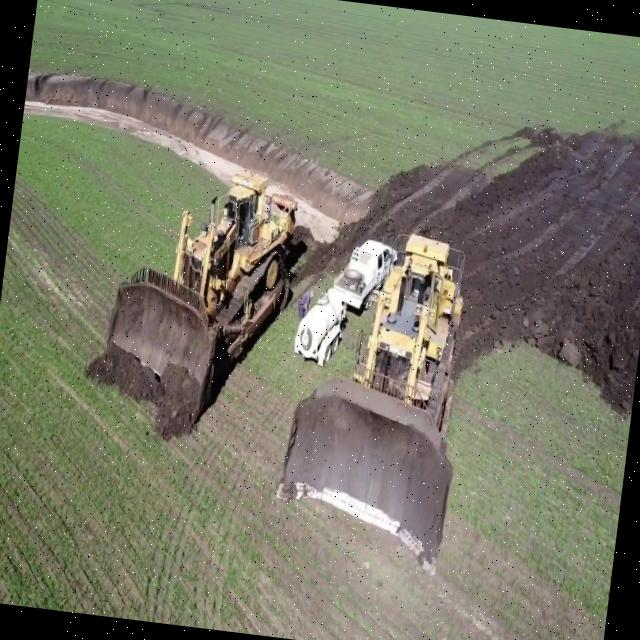Bulldozer: (280, 204, 500, 566), (82, 130, 316, 447)
